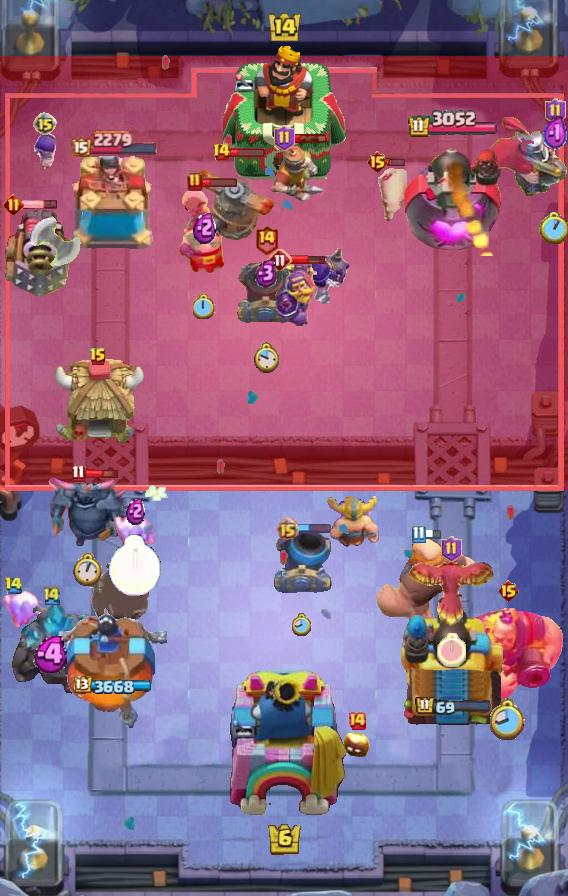baby-dragon: (91, 562, 150, 625)
balloon: (375, 534, 479, 626)
bomber: (343, 730, 371, 758)
cannoneer-tower: (8, 601, 96, 699)
dark-prince: (191, 155, 281, 245)
earthquake: (264, 142, 328, 204)
electro-spirit: (32, 636, 71, 673), (544, 115, 568, 153), (193, 211, 216, 244), (255, 258, 278, 288), (127, 497, 146, 525)
elixir: (108, 534, 162, 597), (490, 698, 526, 742), (74, 553, 103, 587), (438, 633, 467, 667), (540, 212, 568, 244), (253, 342, 279, 374), (193, 294, 215, 319), (292, 613, 312, 637)
emote: (201, 176, 239, 188), (84, 468, 119, 481), (230, 147, 267, 158), (22, 199, 59, 210), (290, 255, 326, 266), (296, 523, 332, 534), (293, 133, 328, 144), (422, 528, 441, 539), (386, 157, 406, 167)
firecracker-evolution: (273, 260, 317, 328)
giant: (378, 167, 412, 225)
goblin: (32, 131, 58, 169)
goblin-ball: (308, 239, 352, 305)
goblin-giant: (326, 496, 382, 550)
golden-knight: (405, 553, 497, 627)
golem: (0, 206, 78, 298)
golemite: (44, 472, 130, 548)
king-tower: (219, 670, 349, 826), (223, 43, 345, 181)
lightning: (451, 606, 564, 702)
mirror: (112, 511, 158, 553), (0, 589, 50, 627)
monk: (176, 187, 232, 275)
musketeer: (235, 259, 297, 327), (272, 529, 332, 593)
prince: (51, 357, 145, 447)
queen-tower: (61, 603, 167, 731), (68, 156, 160, 256)
royal-giant: (24, 216, 82, 278)
selected: (407, 110, 499, 139), (69, 130, 158, 157), (416, 695, 493, 716), (74, 676, 154, 696)
text: (254, 224, 279, 255), (33, 112, 57, 136), (268, 248, 292, 272), (273, 125, 295, 151), (367, 150, 390, 174), (496, 579, 519, 603), (545, 98, 566, 124), (442, 536, 463, 562), (276, 517, 299, 540), (4, 194, 25, 215), (42, 586, 62, 607), (212, 142, 232, 162), (347, 711, 367, 731), (89, 347, 107, 367), (4, 577, 24, 595), (187, 172, 203, 192), (410, 525, 425, 543), (71, 465, 85, 483)
tower-bar: (397, 595, 509, 731), (404, 138, 505, 256)
wall-breaker-evolution: (470, 115, 568, 201)
